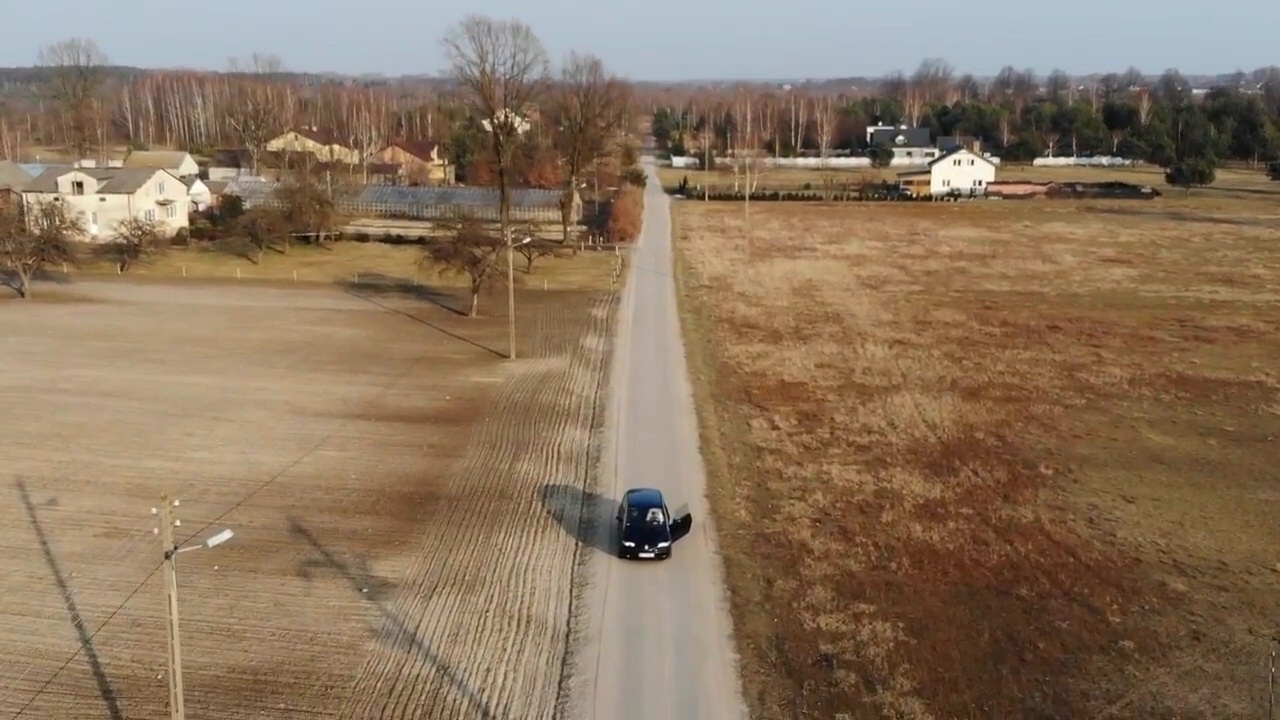araba: (617, 484, 675, 564)
